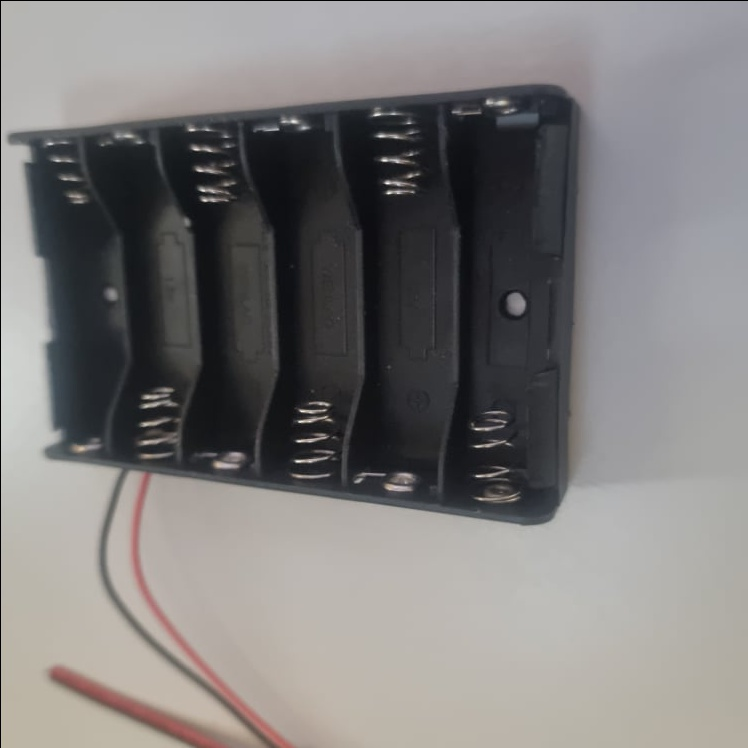BATTERY BOX: (6, 83, 579, 534)
